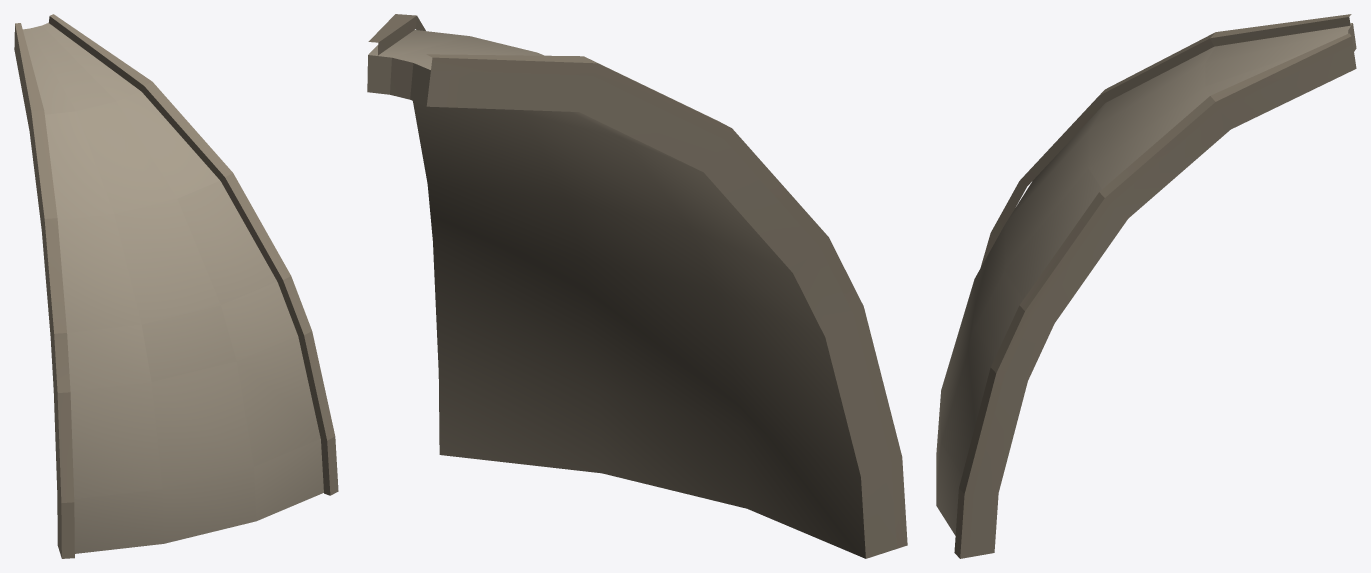
The model's file is dome.panel_8.stone.glb.
3 renders of one model, left to right at view 1: azimuth 30°, elevation 25°; view 2: azimuth 150°, elevation 25°; view 3: azimuth 270°, elevation 25°, orthographic. The views are drawn at different scales.
Parts seen in each view (by area): view 1: dome_panel_8_stone; view 2: dome_panel_8_stone; view 3: dome_panel_8_stone.
Boxes of the visible parts, <box> form: dome_panel_8_stone: <box>14,14,338,558</box>; dome_panel_8_stone: <box>367,14,907,558</box>; dome_panel_8_stone: <box>936,14,1356,558</box>.
Size of what is drawn, in the model's own units: 2.73 by 3.63 by 3.05.
